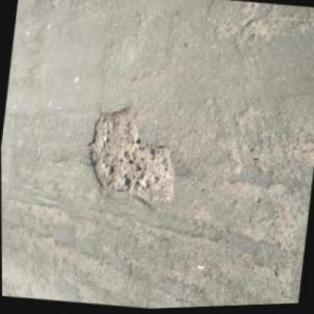Hueco: (80, 99, 186, 215)
